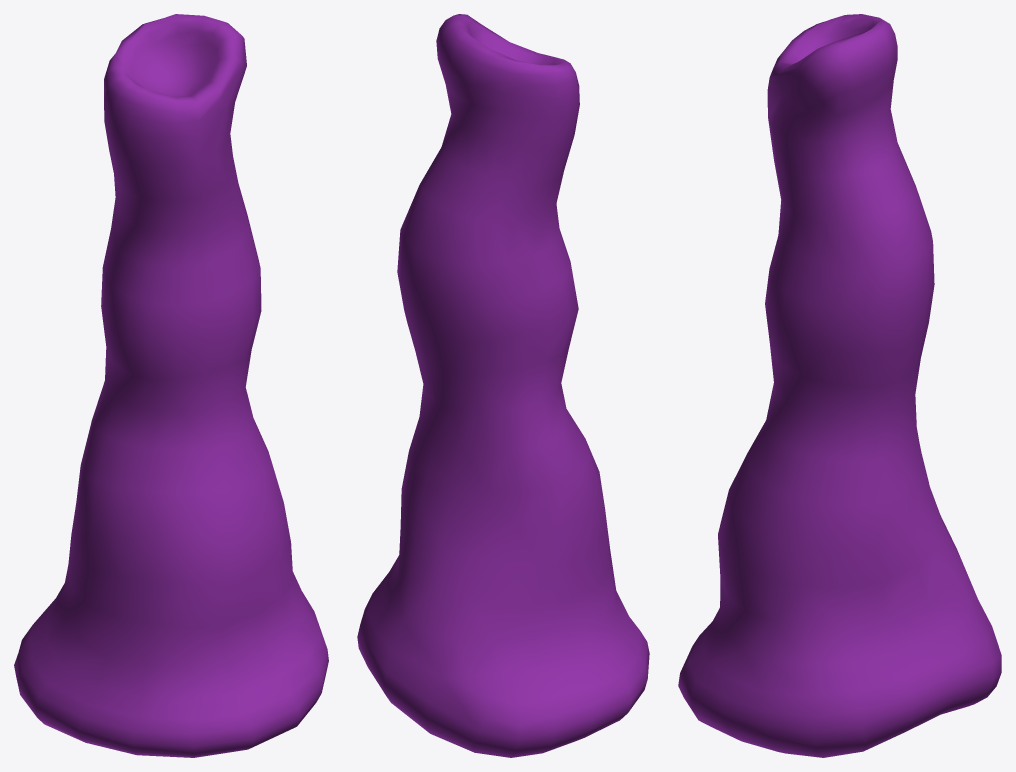
3 renders of one model, left to right at view 1: azimuth 30°, elevation 25°; view 2: azimuth 150°, elevation 25°; view 3: azimuth 270°, elevation 25°, orthographic. The views are drawn at different scales.
Parts seen in each view (by area): view 1: coral_tube_1_retop; view 2: coral_tube_1_retop; view 3: coral_tube_1_retop.
Boxes of the visible parts, x1,y1,x2,y2 form: coral_tube_1_retop: [14, 14, 328, 757]; coral_tube_1_retop: [357, 14, 649, 757]; coral_tube_1_retop: [678, 14, 1001, 757].
Size of the model in its own units: 87.82 by 214 by 89.49.
